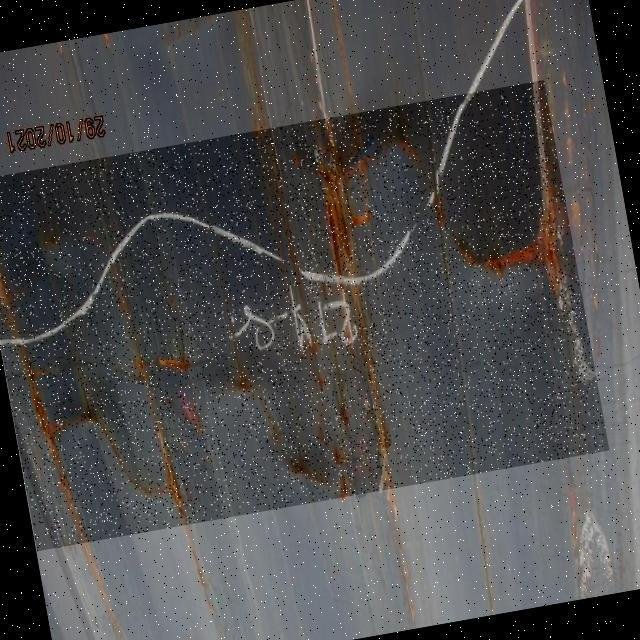Dent: (0, 79, 608, 550)
